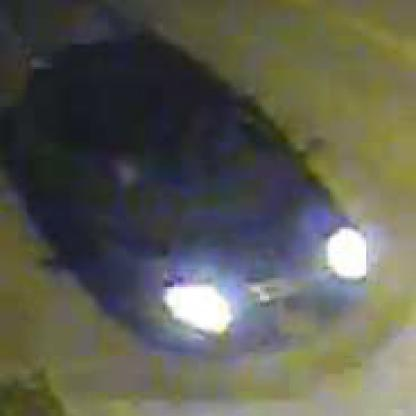car: (28, 46, 370, 355)
